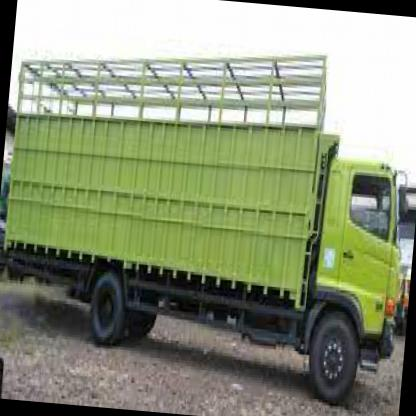truck: (306, 146, 416, 413)
